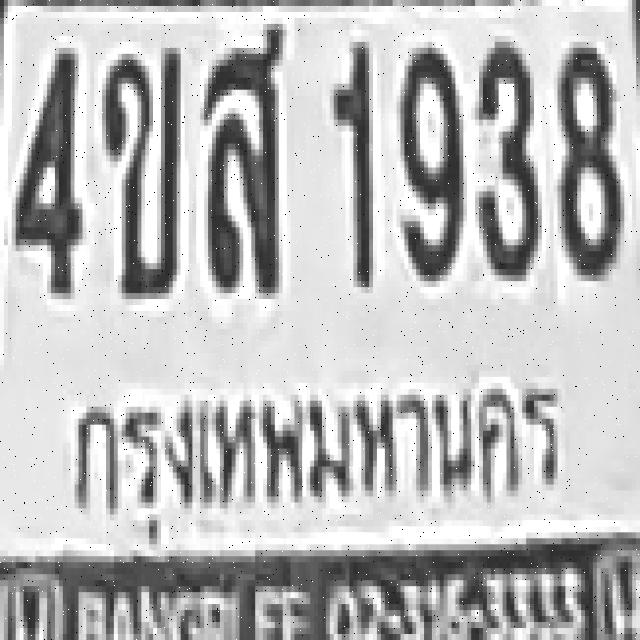1: (330, 42, 373, 287)
11KhorKhai: (100, 42, 182, 305)
3: (475, 38, 538, 278)
4: (12, 42, 78, 293)
49SorSuea: (200, 18, 285, 301)
8: (554, 42, 620, 276)
9: (396, 41, 459, 282)
Bangkok: (54, 352, 564, 524)
